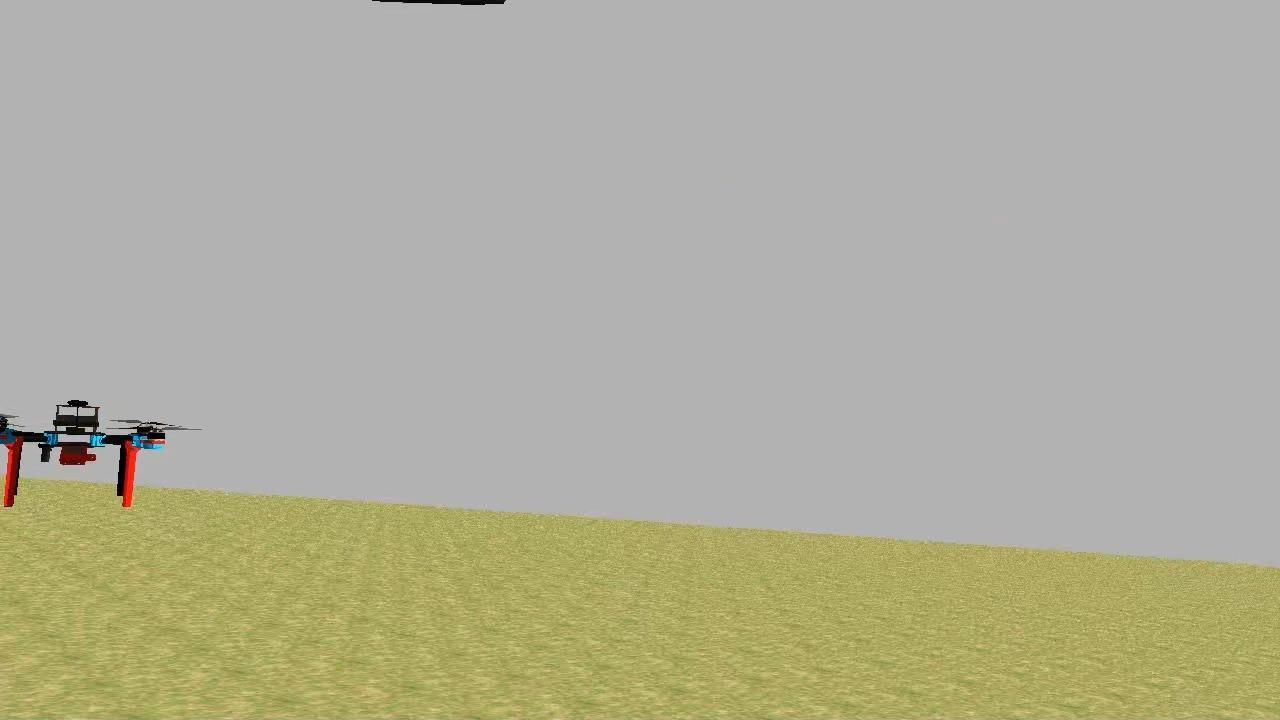UAV: (0, 391, 174, 522)
